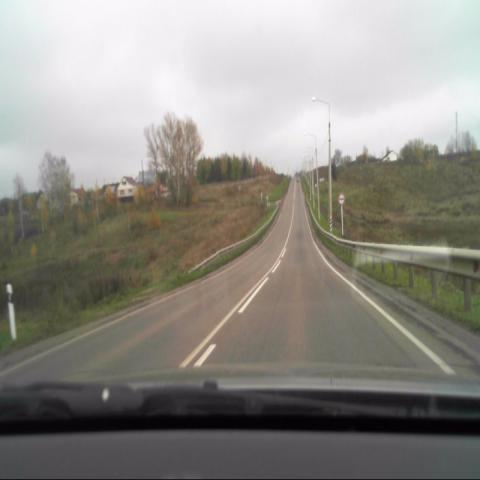3_20: (338, 192, 345, 206)
